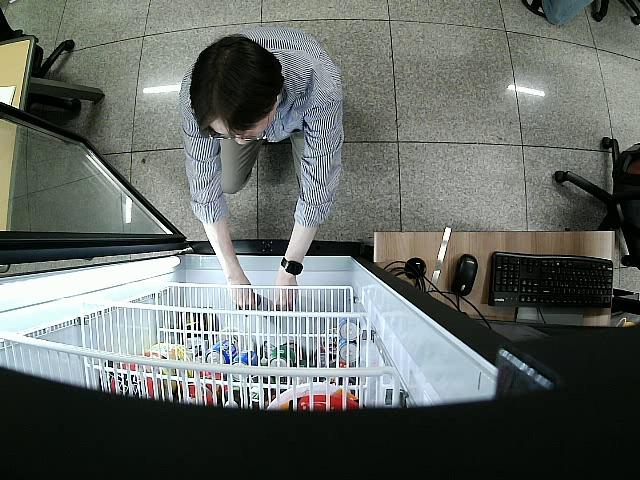00_hand: (225, 272, 256, 308), (273, 278, 301, 310)
